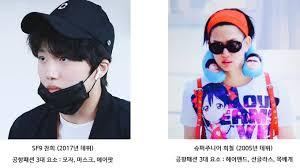earphone: (93, 65, 103, 81)
